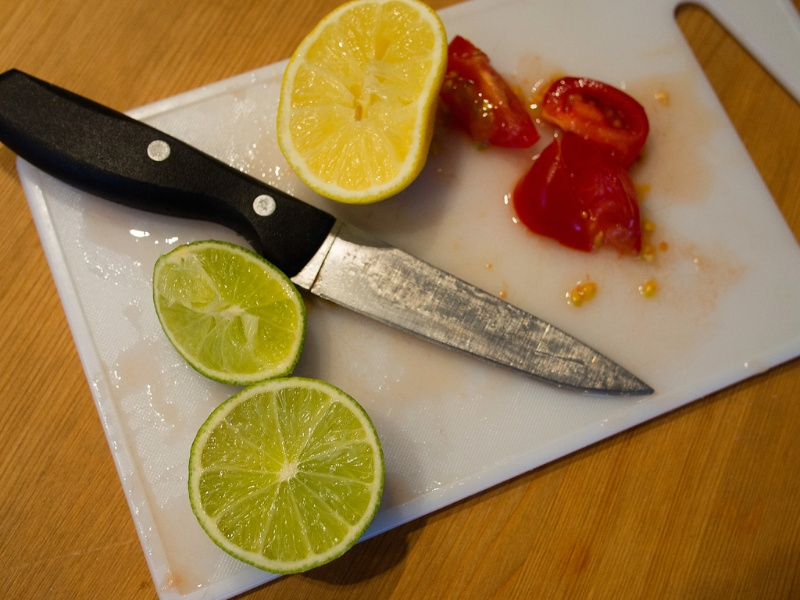knife: (2, 69, 659, 398)
